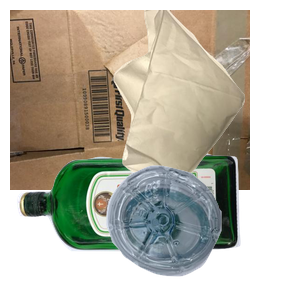cardboard: (10, 10, 250, 190)
glass: (14, 150, 247, 300)
plastic: (104, 163, 300, 300)
trash: (111, 10, 300, 190)
